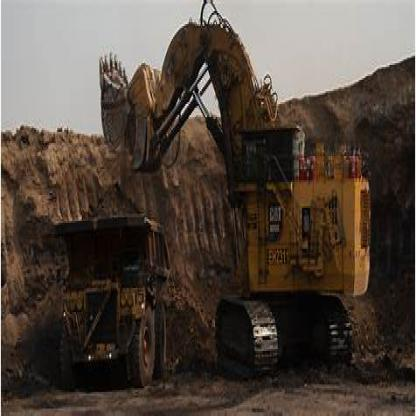excavator: (95, 13, 391, 381)
